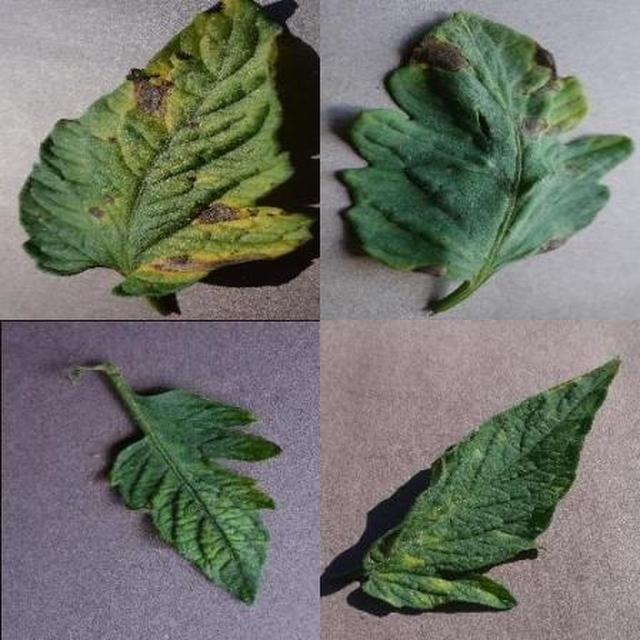Early Blight Leaf: (238, 205, 640, 640)
